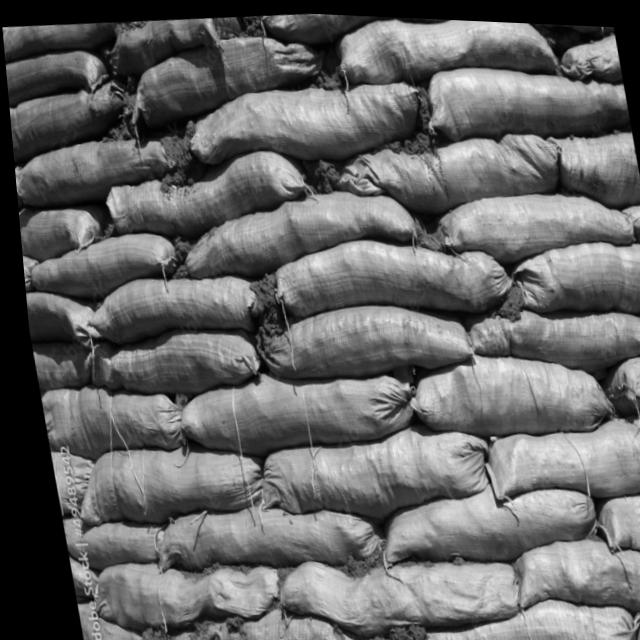sack: (239, 412, 490, 526), (167, 175, 419, 286), (175, 69, 431, 173), (261, 537, 516, 640), (261, 221, 512, 325), (165, 356, 414, 459), (326, 119, 566, 222), (361, 467, 594, 568), (94, 138, 310, 244), (245, 288, 471, 388), (395, 337, 609, 440), (137, 490, 376, 577), (58, 433, 260, 531), (416, 49, 630, 140), (428, 177, 636, 268), (72, 547, 274, 637), (469, 397, 640, 503), (328, 11, 560, 87), (67, 584, 355, 640), (460, 290, 640, 378), (74, 265, 258, 350), (78, 317, 259, 403), (382, 580, 634, 640), (9, 129, 171, 217), (495, 518, 640, 614), (31, 377, 180, 466), (17, 226, 177, 304), (501, 227, 640, 313), (5, 75, 132, 162), (120, 50, 222, 136), (545, 121, 640, 207), (3, 48, 110, 120), (217, 29, 320, 96), (105, 12, 223, 69), (52, 510, 156, 574), (1, 20, 120, 73), (582, 465, 640, 550), (14, 205, 99, 261), (20, 285, 94, 345), (555, 25, 622, 81), (25, 338, 91, 391), (593, 346, 640, 414), (616, 592, 640, 640)
